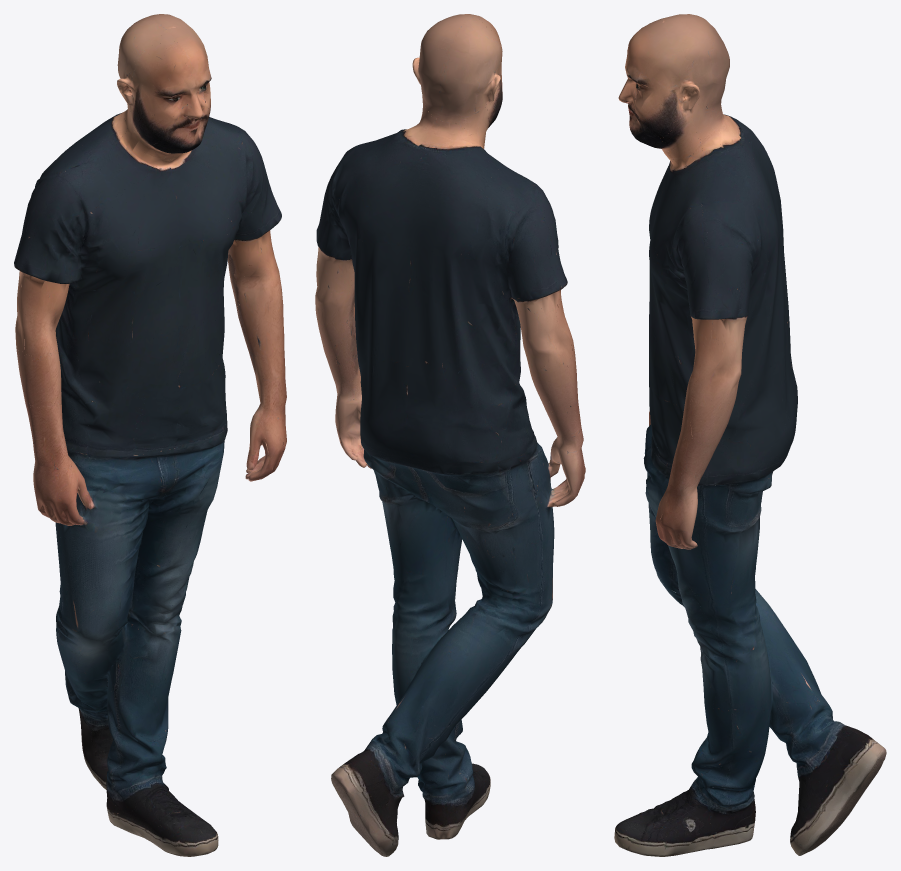
The model's file is touchline-man.glb.
3 renders of one model, left to right at view 1: azimuth 30°, elevation 25°; view 2: azimuth 150°, elevation 25°; view 3: azimuth 270°, elevation 25°, orthographic. The views are drawn at different scales.
Parts seen in each view (by area): view 1: Object_6, Object_5; view 2: Object_5, Object_6; view 3: Object_5, Object_6.
Part boxes in pixels (x1=…): Object_6: x1=15, y1=14, x2=286, y2=851; Object_5: x1=14, y1=30, x2=286, y2=856; Object_5: x1=315, y1=15, x2=585, y2=856; Object_6: x1=325, y1=14, x2=585, y2=823; Object_5: x1=614, y1=18, x2=886, y2=856; Object_6: x1=617, y1=14, x2=762, y2=856.
Bounding box in the file's own units: 0.6254 × 1.9 × 0.5656.
Materials: 1 (1 with a texture image).
